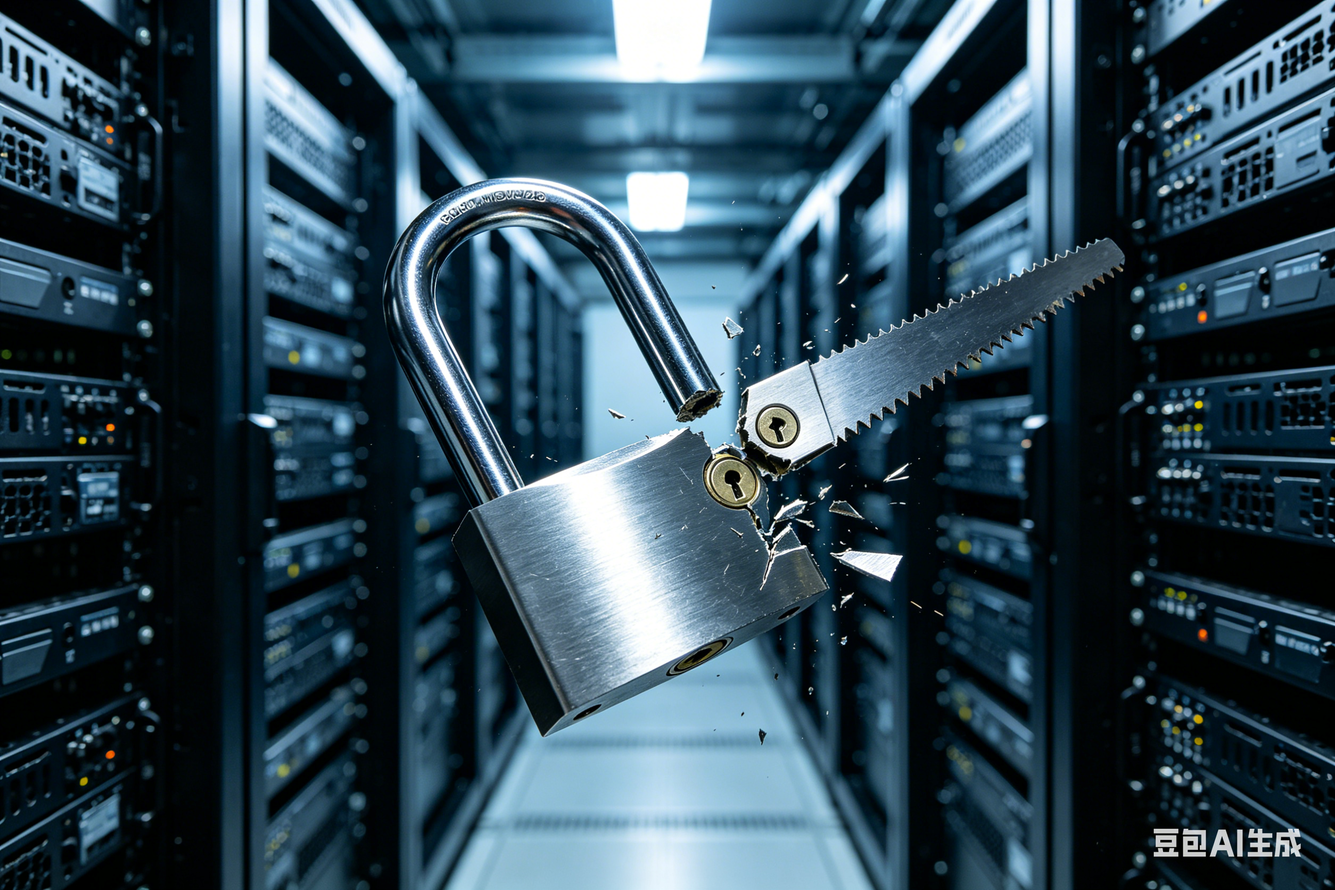BadLock: (643, 325, 853, 537)
